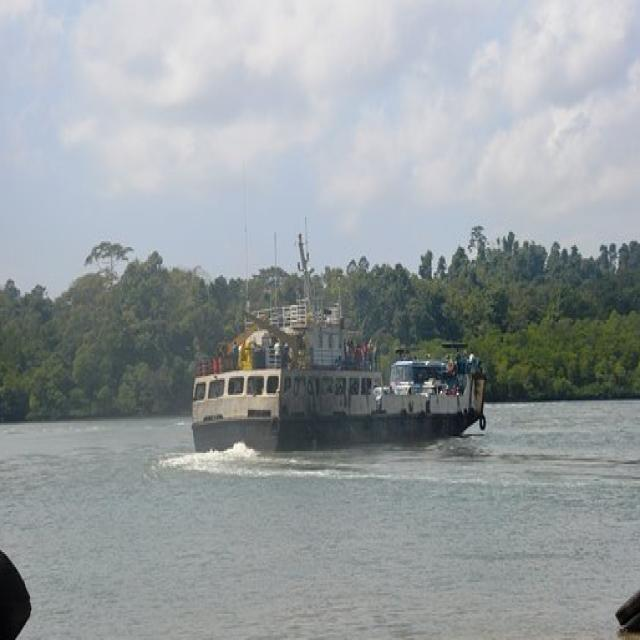fishing boat: (189, 289, 488, 458)
